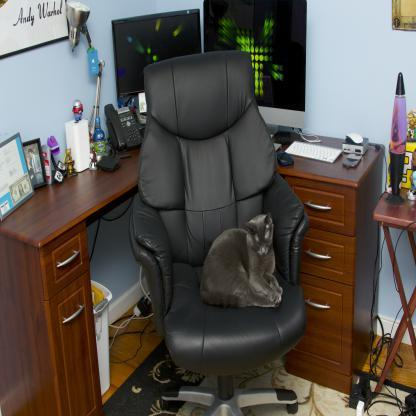chair: (120, 45, 317, 416)
light: (62, 0, 106, 139)
table: (0, 134, 390, 416), (369, 172, 416, 407)
